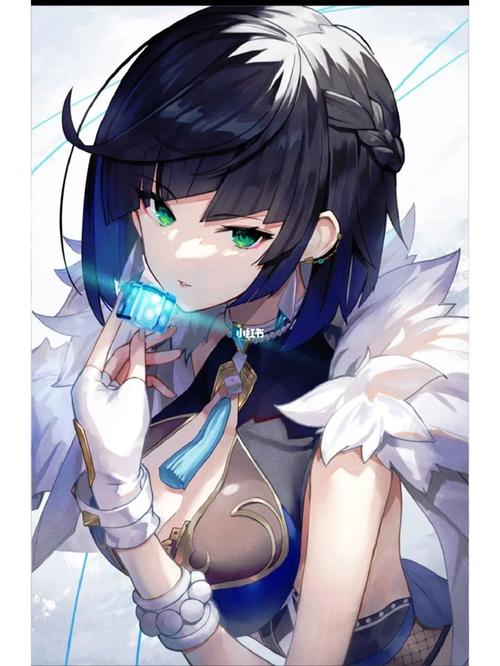夜兰: (62, 6, 467, 666)
